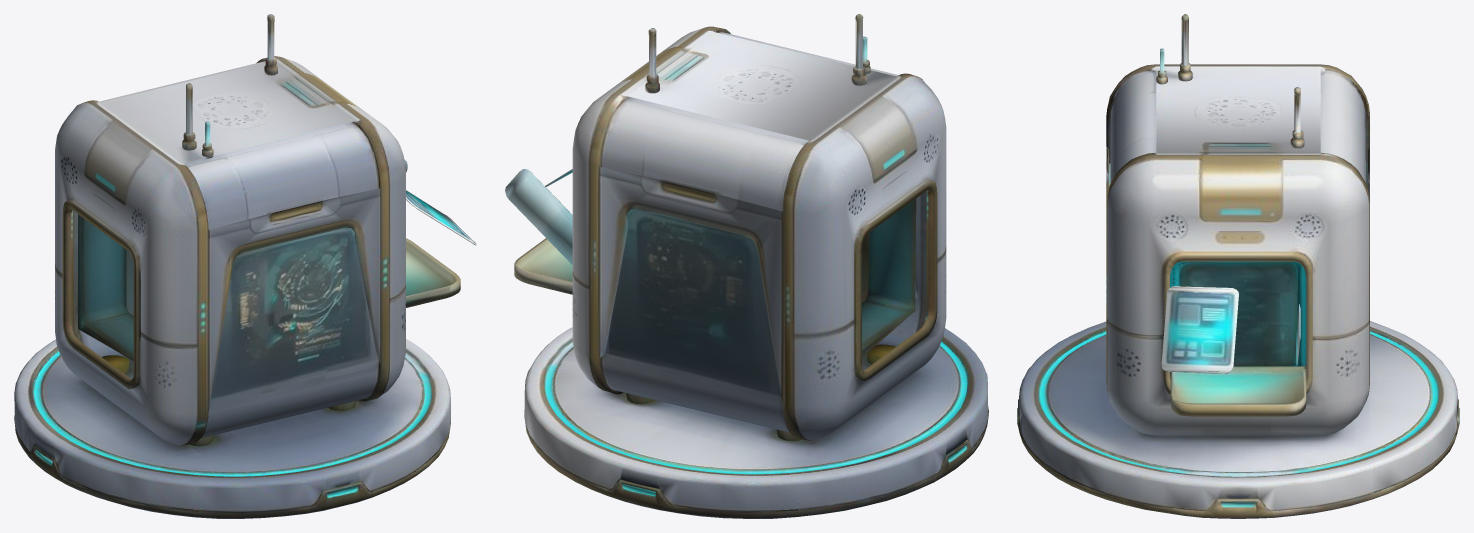
The model's file is maquina-digitales.glb.
The picture shows the model from 3 angles, left to right: view 1: azimuth 30°, elevation 25°; view 2: azimuth 150°, elevation 25°; view 3: azimuth 270°, elevation 25°; orthographic projection. The views are drawn at different scales.
Parts seen in each view (by area): view 1: tripo_node_1498b307-9fc5-4908-8a34-8878672af3da; view 2: tripo_node_1498b307-9fc5-4908-8a34-8878672af3da; view 3: tripo_node_1498b307-9fc5-4908-8a34-8878672af3da.
Part boxes in pixels (left/top/right/bottom): tripo_node_1498b307-9fc5-4908-8a34-8878672af3da: left=14, top=14, right=476, bottom=518; tripo_node_1498b307-9fc5-4908-8a34-8878672af3da: left=505, top=14, right=988, bottom=518; tripo_node_1498b307-9fc5-4908-8a34-8878672af3da: left=1017, top=14, right=1459, bottom=518.
Size of the model in its own units: 0.4434 by 0.4 by 0.4226.
1 material, 1 textured.
